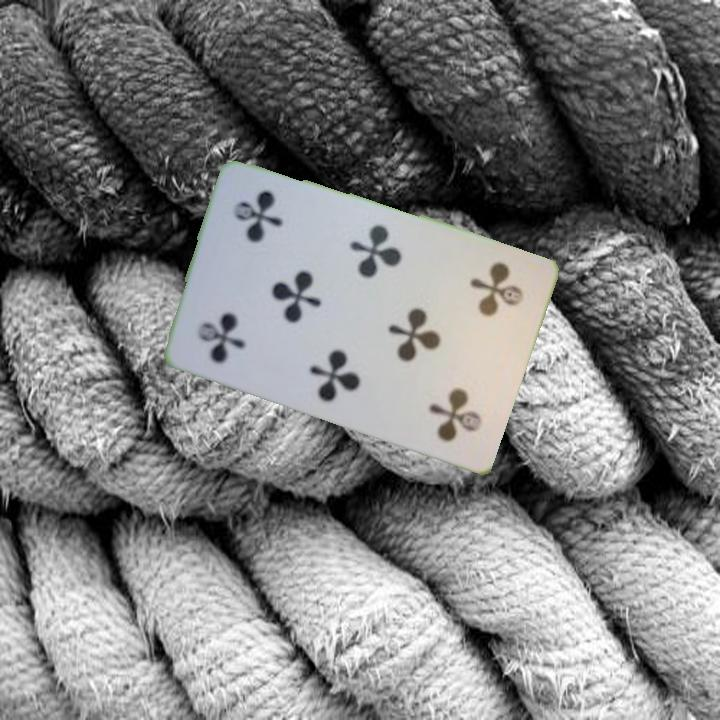c_8.png: (175, 257, 287, 378), (429, 246, 541, 367)
